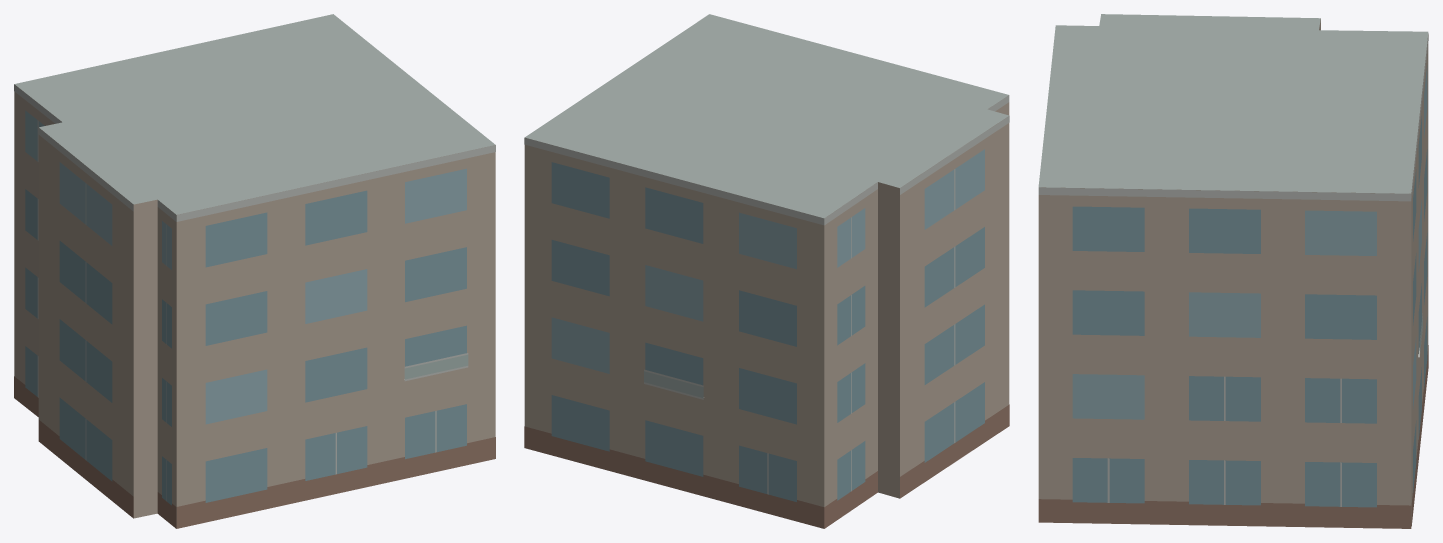
The model's file is survey-upis-32719123.glb.
The picture shows the model from 3 angles, left to right: view 1: azimuth 30°, elevation 25°; view 2: azimuth 150°, elevation 25°; view 3: azimuth 270°, elevation 25°; orthographic projection. The views are drawn at different scales.
Parts seen in each view (by area): view 1: survey-upis-32719123.tmp; view 2: survey-upis-32719123.tmp; view 3: survey-upis-32719123.tmp.
Boxes of the visible parts, x1,y1,x2,y2 form: survey-upis-32719123.tmp: (14, 14, 495, 528); survey-upis-32719123.tmp: (524, 14, 1009, 528); survey-upis-32719123.tmp: (1038, 14, 1428, 528).
Size of the model in its own units: 12.32 by 10.7 by 11.3.
